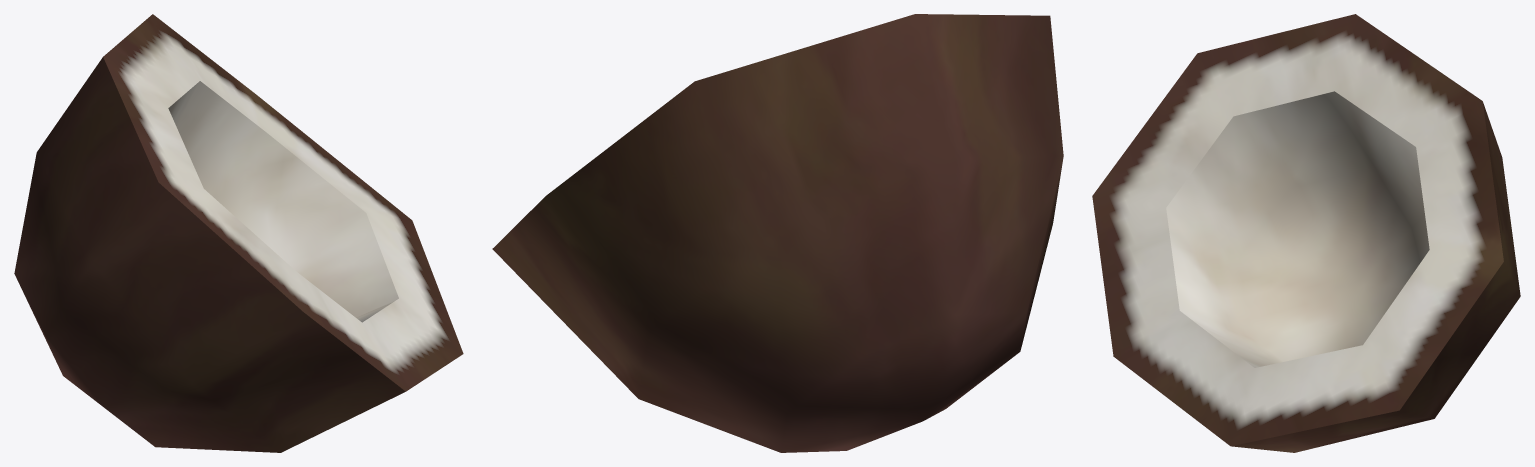
Rendered from coconut_half02_mesh.fbx.
The picture shows the model from 3 angles, left to right: view 1: azimuth 30°, elevation 25°; view 2: azimuth 150°, elevation 25°; view 3: azimuth 270°, elevation 25°; orthographic projection. The views are drawn at different scales.
Parts seen in each view (by area): view 1: coconut_half02_mesh; view 2: coconut_half02_mesh; view 3: coconut_half02_mesh.
Part boxes in pixels (x1,y1,x2,y2): coconut_half02_mesh: [14, 14, 463, 452]; coconut_half02_mesh: [492, 14, 1063, 452]; coconut_half02_mesh: [1092, 14, 1520, 452].
Bounding box in the file's own units: 0.3786 × 0.3427 × 0.368.
